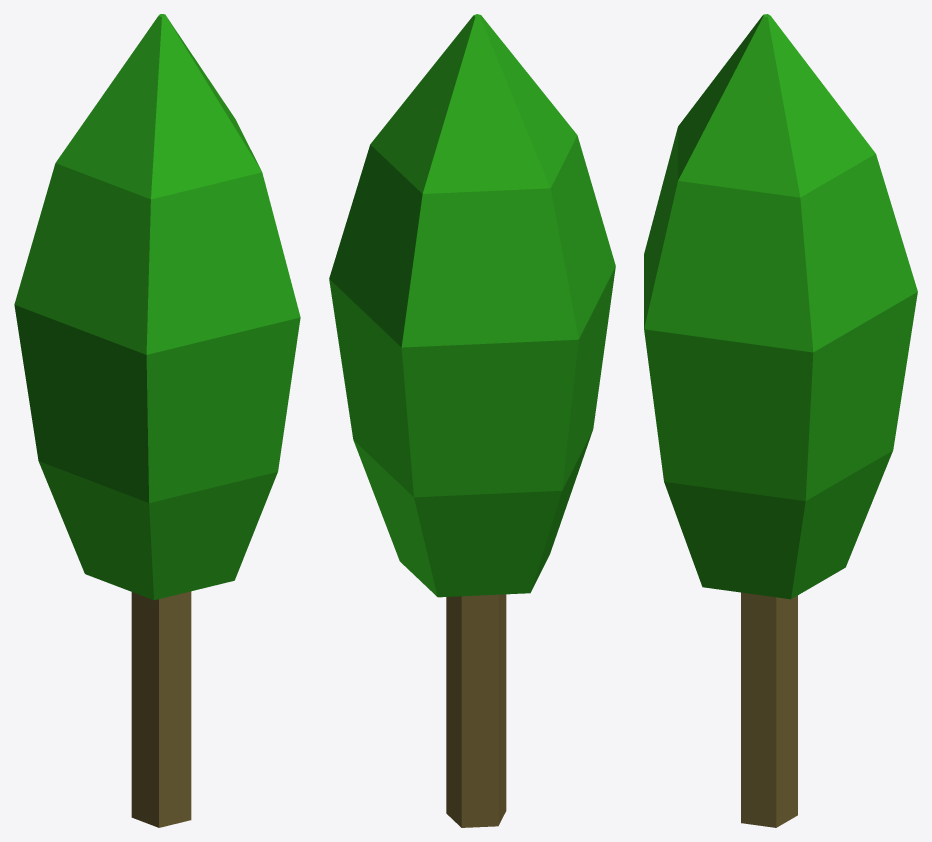
Rendered from TreeShape2_Light.fbx.
The picture shows the model from 3 angles, left to right: view 1: azimuth 30°, elevation 25°; view 2: azimuth 150°, elevation 25°; view 3: azimuth 270°, elevation 25°; orthographic projection.
Parts seen in each view (by area): view 1: TreeShape2_Light; view 2: TreeShape2_Light; view 3: TreeShape2_Light.
Part boxes in pixels (x1,y1,x2,y2): TreeShape2_Light: (14, 14, 300, 827); TreeShape2_Light: (329, 14, 615, 827); TreeShape2_Light: (644, 14, 917, 827).
Bounding box in the file's own units: 114 × 350 × 109.
